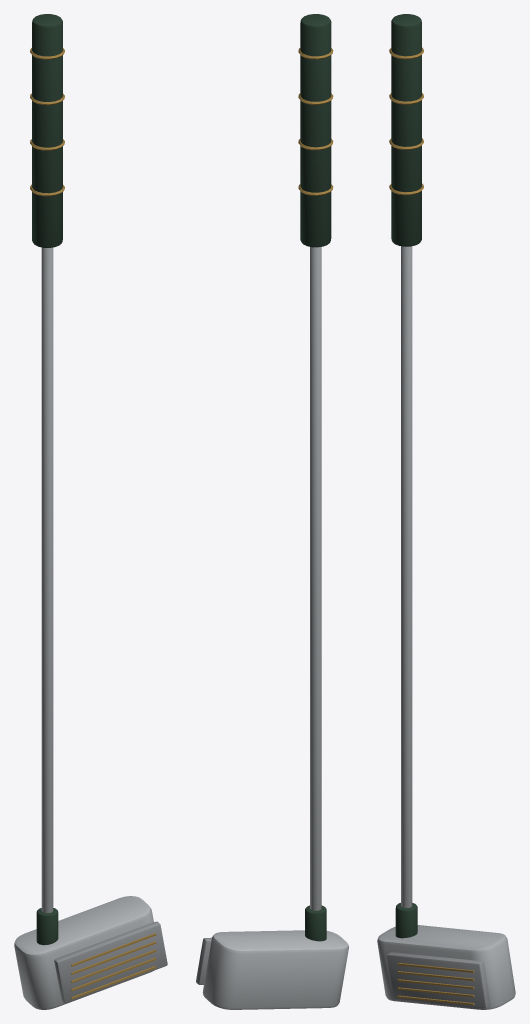
File: golfer_iron.glb
3 views of the same model, side by side, from view 1: azimuth 30°, elevation 25°; view 2: azimuth 210°, elevation 25°; view 3: azimuth 330°, elevation 25° (orthographic).
Visible parts, largest first — view 1: golfer_iron_body; view 2: golfer_iron_body; view 3: golfer_iron_body.
Part boxes in pixels (box(x1,y1,x2,y2)): golfer_iron_body: box(14, 14, 167, 1009); golfer_iron_body: box(196, 14, 348, 1009); golfer_iron_body: box(377, 14, 515, 1009).
Bounding box in the file's own units: 0.1507 × 1.08 × 0.0724.
